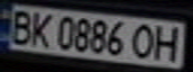0: (51, 14, 75, 52)
6: (106, 19, 130, 56)
8: (90, 17, 112, 55), (72, 16, 93, 53)
B: (3, 7, 36, 45)
H: (148, 23, 187, 62)
K: (24, 9, 57, 48)
O: (127, 21, 160, 60)
